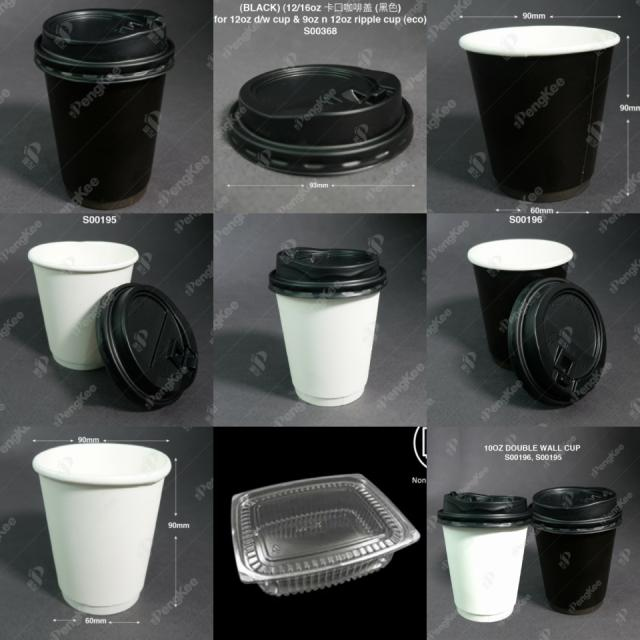Single-Use-Plastic: (459, 25, 619, 202), (34, 9, 175, 209), (32, 444, 171, 614), (231, 474, 420, 596), (228, 65, 414, 176), (269, 246, 386, 406), (28, 241, 139, 369), (468, 239, 572, 369), (96, 282, 198, 409), (509, 278, 606, 406), (438, 491, 532, 622), (531, 486, 622, 615)
